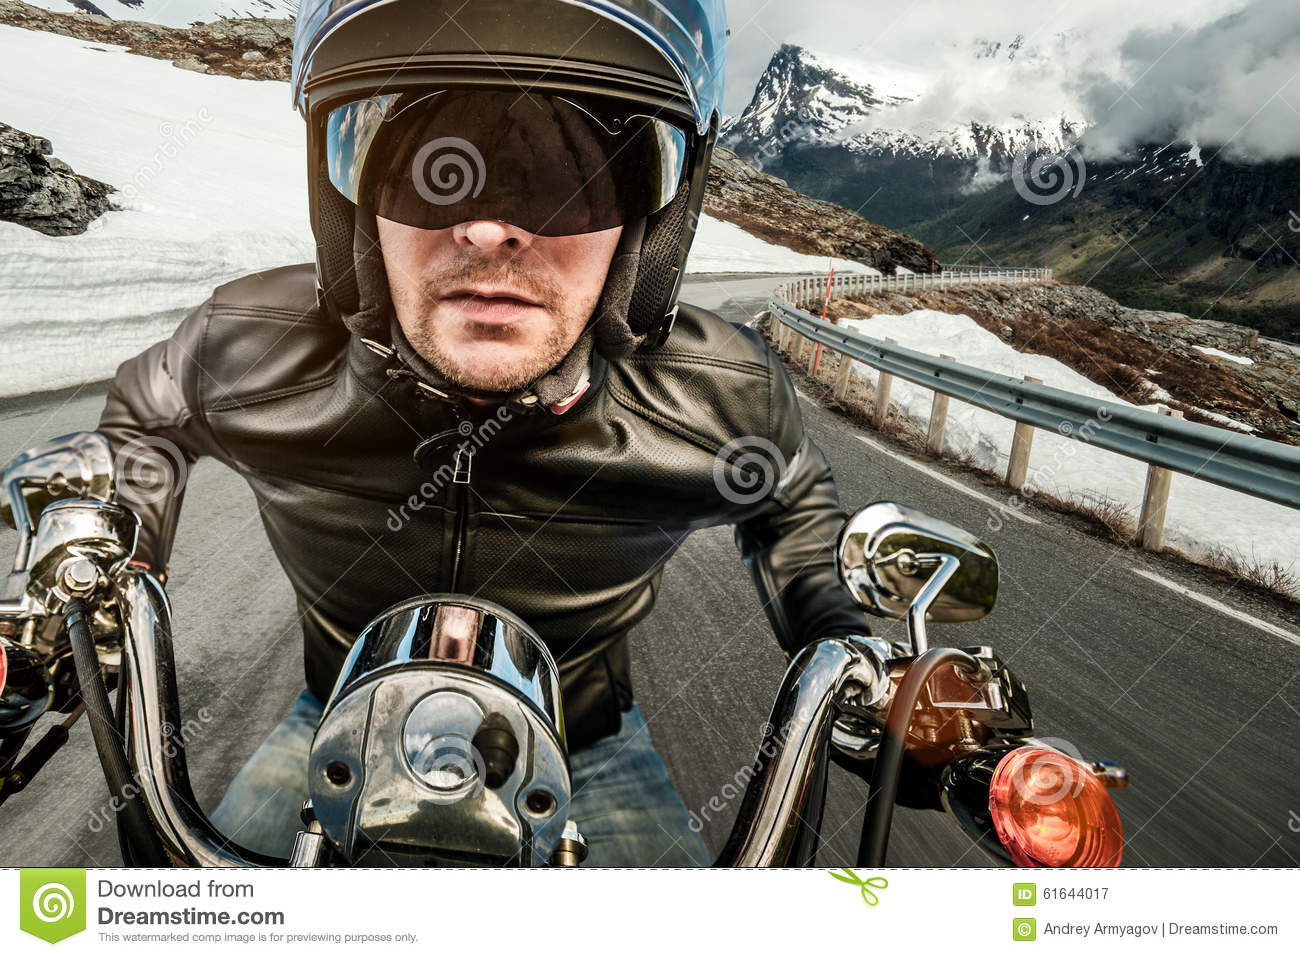helmet: (299, 8, 705, 357)
